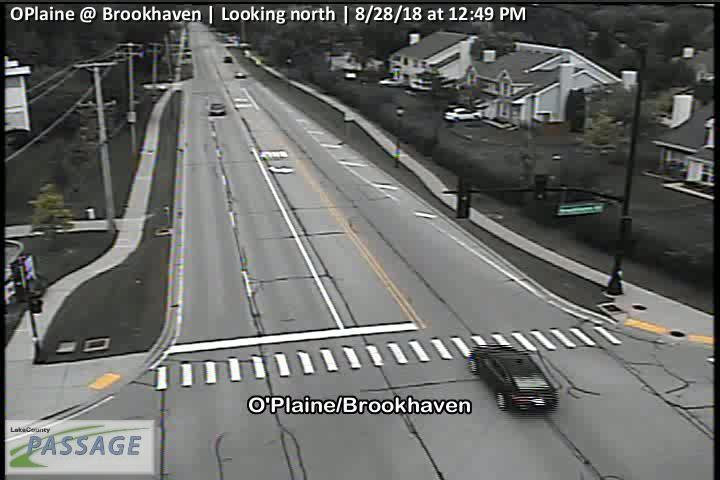SUV: (223, 56, 232, 64)
Sedan: (470, 344, 557, 415), (210, 103, 225, 116), (235, 71, 246, 78)
